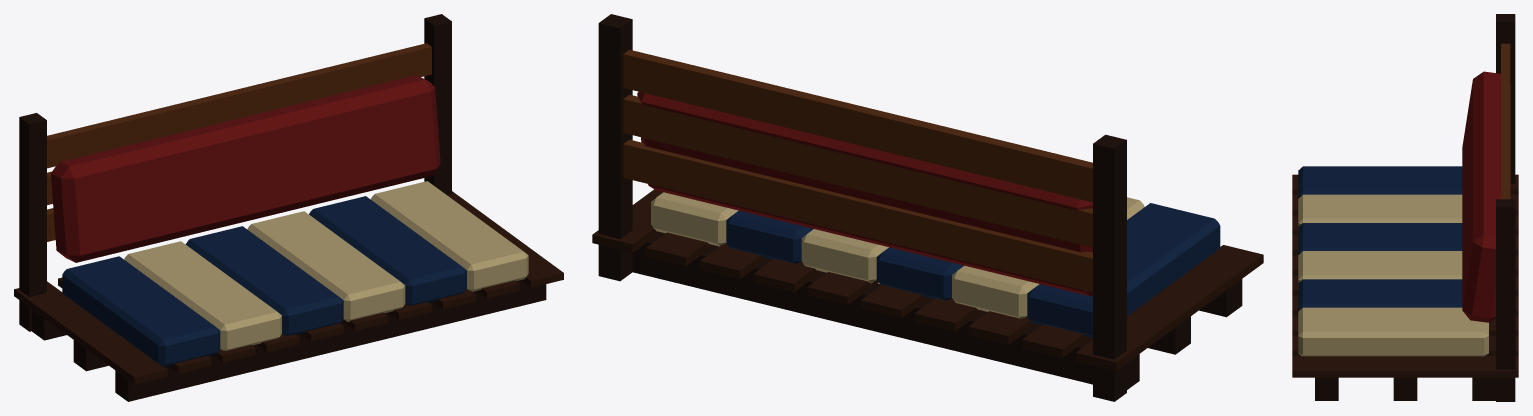
File: SM_Hide_Couch_Pallet.glb
The picture shows the model from 3 angles, left to right: view 1: azimuth 30°, elevation 25°; view 2: azimuth 150°, elevation 25°; view 3: azimuth 270°, elevation 25°; orthographic projection. The views are drawn at different scales.
Parts seen in each view (by area): view 1: SM_Hide_Couch_Pallet-col; view 2: SM_Hide_Couch_Pallet-col; view 3: SM_Hide_Couch_Pallet-col.
Part boxes in pixels (x1,y1,x2,y2): SM_Hide_Couch_Pallet-col: (14, 14, 563, 401); SM_Hide_Couch_Pallet-col: (592, 14, 1263, 401); SM_Hide_Couch_Pallet-col: (1292, 14, 1518, 401).
Bounding box in the file's own units: 1.95 × 0.9 × 0.95.
